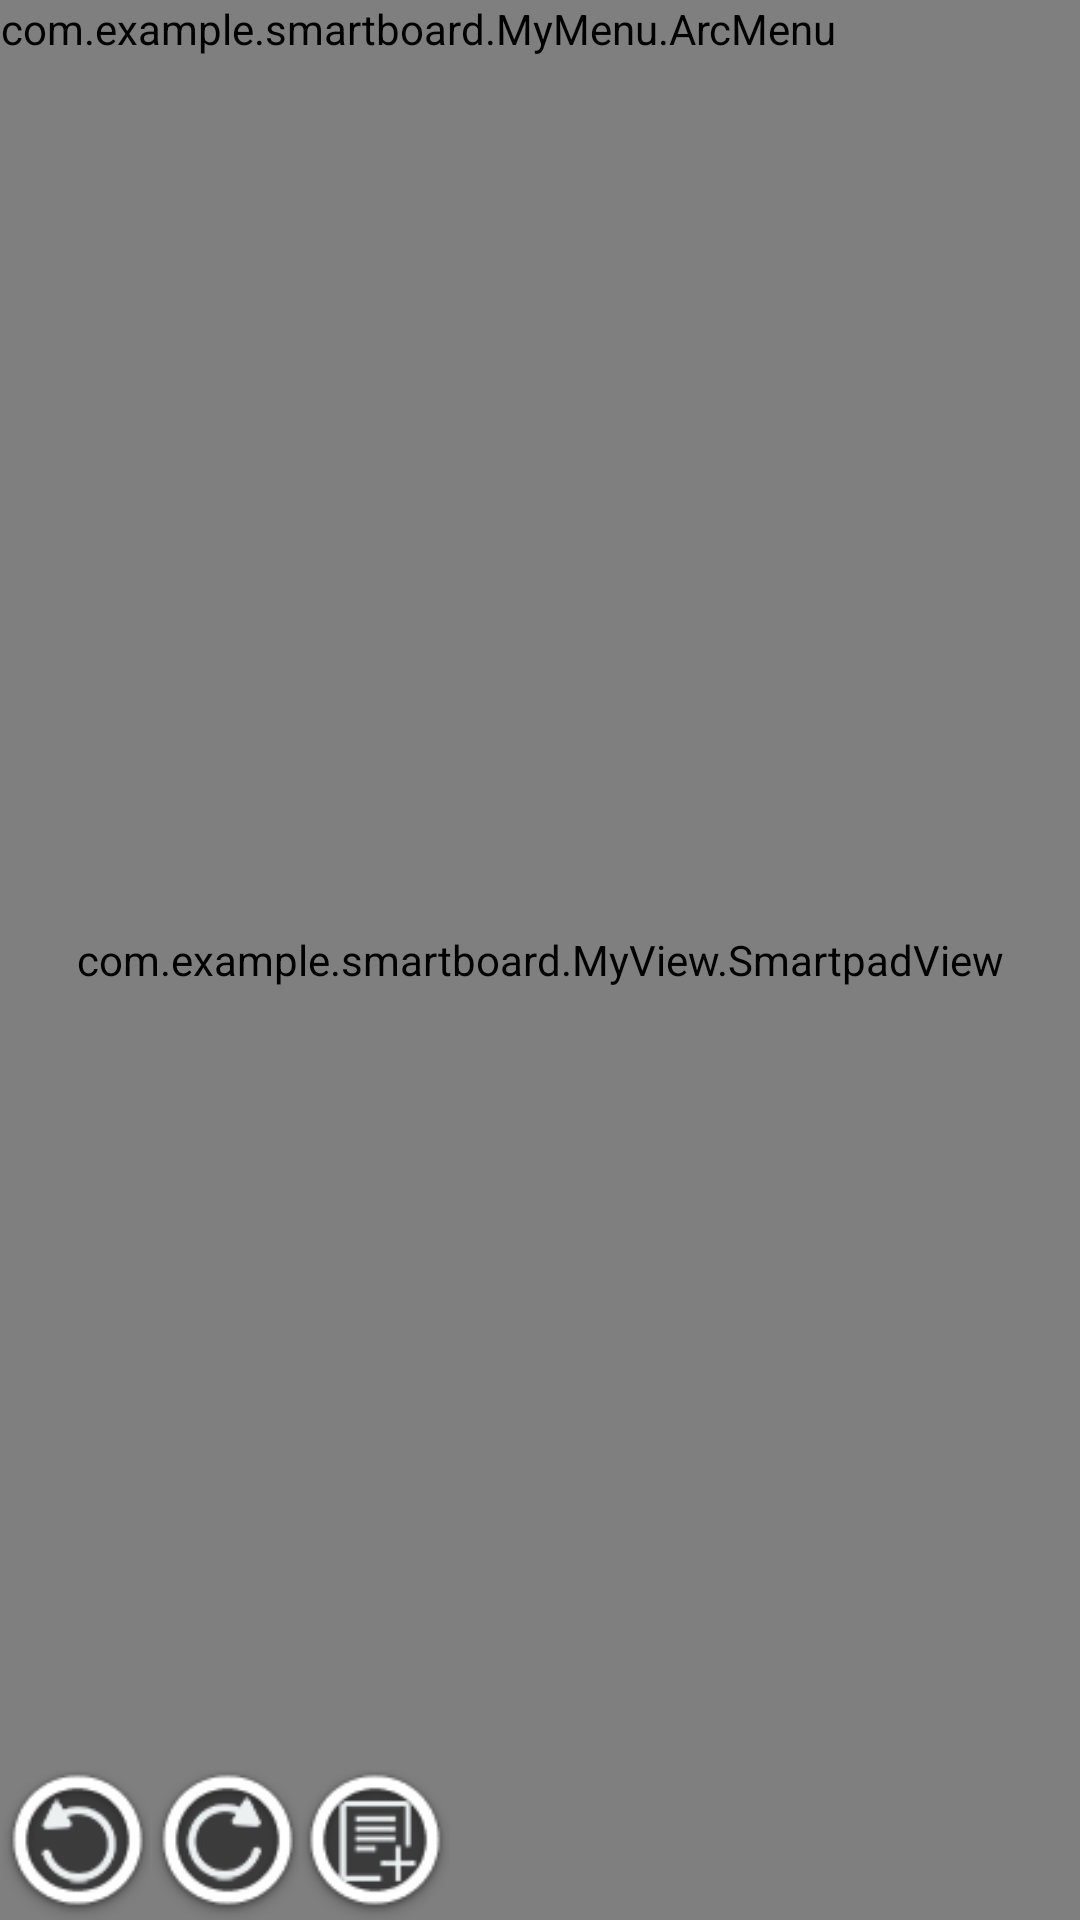

Named icons in this screenshot (1080 × 1920) and their bounding boxes, {"left": x1, "top": y1, "right": x2, "bottom": y2}:
smart newpage: {"left": 308, "top": 1775, "right": 442, "bottom": 1909}
smart redo: {"left": 161, "top": 1775, "right": 294, "bottom": 1909}
smart undo: {"left": 11, "top": 1775, "right": 144, "bottom": 1909}
